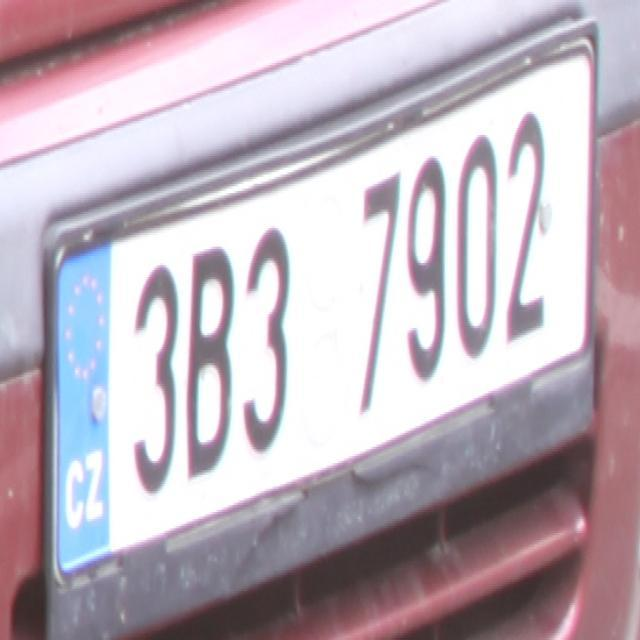0: (456, 128, 496, 358)
2: (504, 109, 546, 347)
3: (132, 260, 178, 492), (242, 228, 288, 458)
7: (359, 168, 400, 408)
9: (404, 153, 446, 384)
B: (184, 242, 232, 482)
